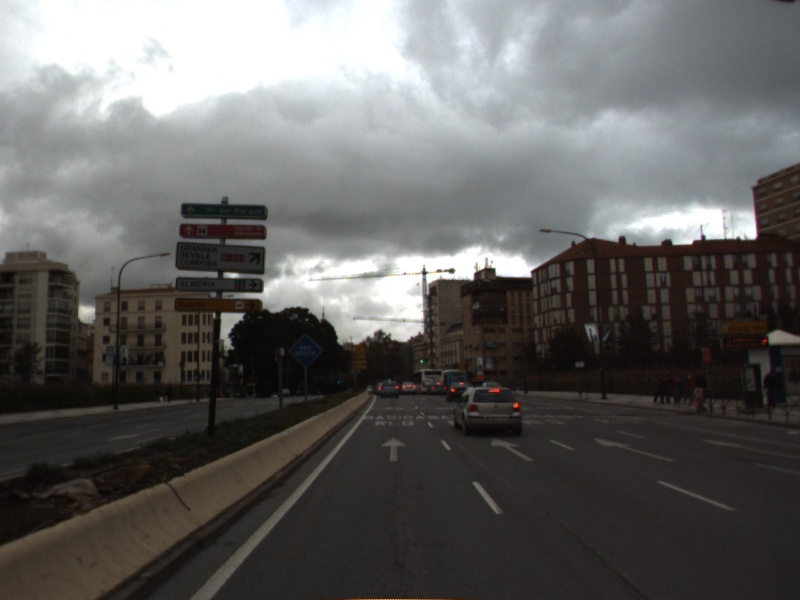STRAIGHT: (590, 435, 680, 464), (697, 436, 800, 460), (488, 435, 537, 463), (378, 435, 411, 464)
